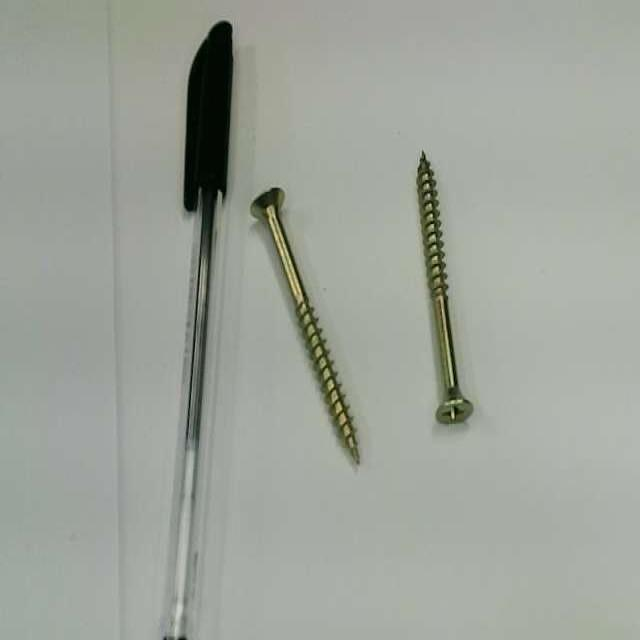Parafuso: (251, 188, 359, 463), (417, 151, 472, 423)
